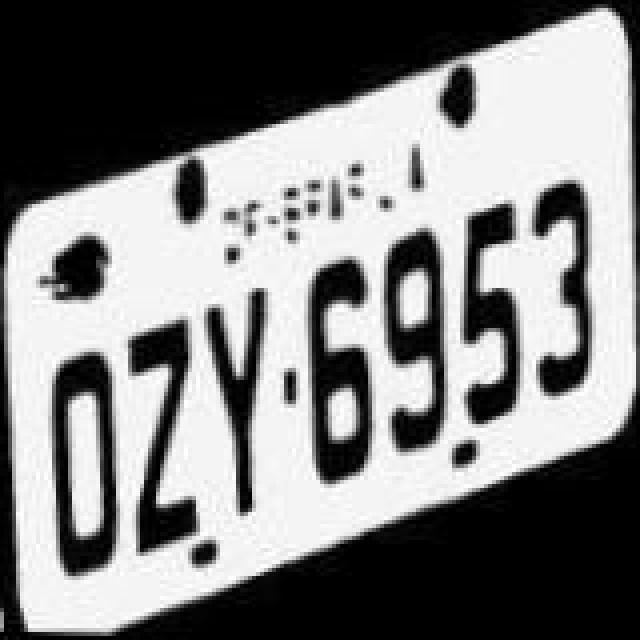3: (516, 158, 600, 422)
5: (448, 176, 532, 448)
6: (294, 248, 386, 512)
9: (378, 218, 454, 478)
O: (40, 332, 128, 584)
Y: (192, 276, 268, 532)
Z: (118, 294, 206, 554)
